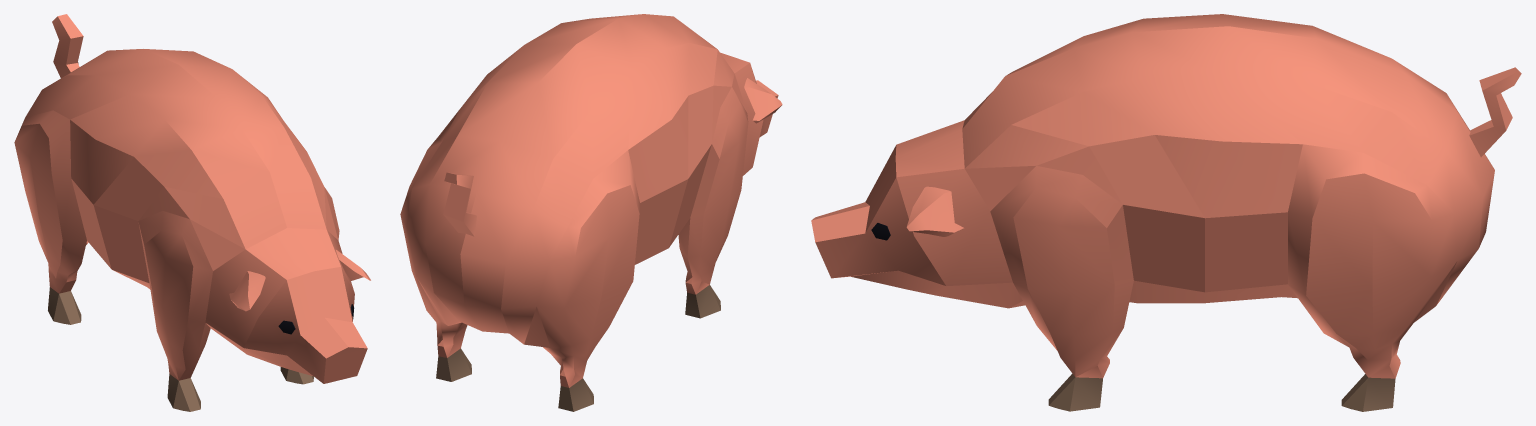
File: Medium_Pig.fbx
The picture shows the model from 3 angles, left to right: view 1: azimuth 30°, elevation 25°; view 2: azimuth 150°, elevation 25°; view 3: azimuth 270°, elevation 25°; orthographic projection. The views are drawn at different scales.
Visible parts, largest first — view 1: Medium_Pig; view 2: Medium_Pig; view 3: Medium_Pig.
Part boxes in pixels (left/top/right/bottom): Medium_Pig: left=14, top=14, right=370, bottom=411; Medium_Pig: left=400, top=14, right=782, bottom=411; Medium_Pig: left=811, top=14, right=1521, bottom=411.
Bounding box in the file's own units: 18.73 × 26.3 × 49.35.
